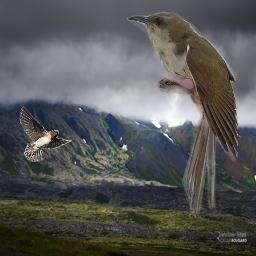Cuckoo: (127, 11, 238, 213)
Swallow: (19, 106, 74, 162)
